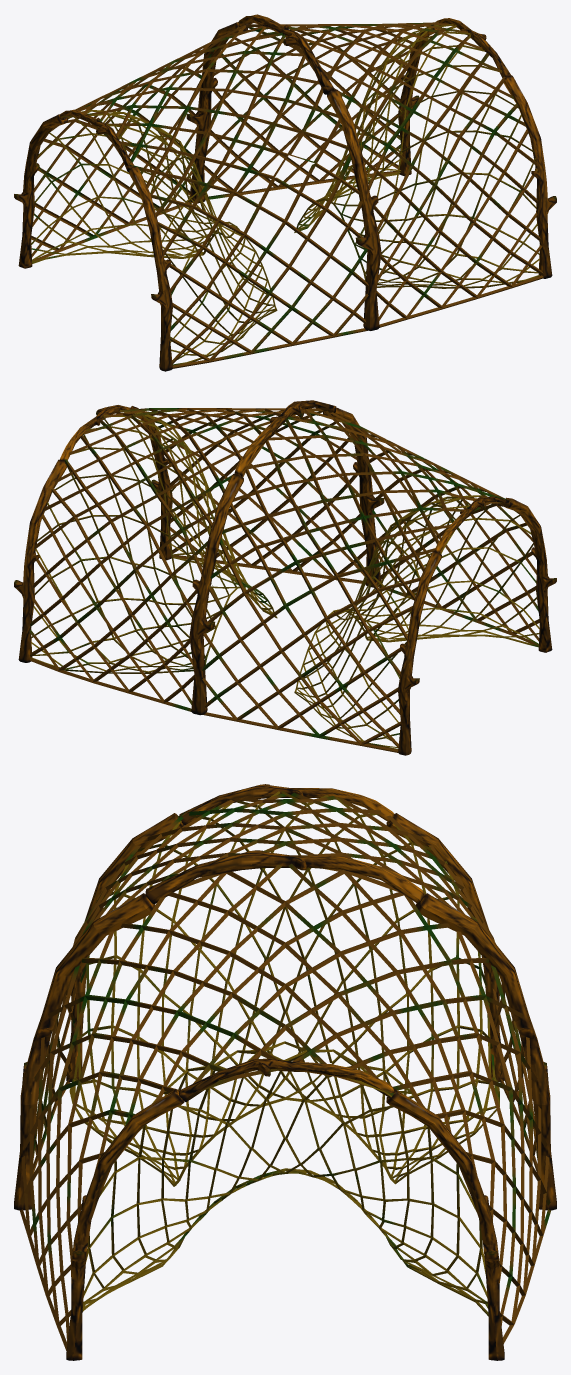
File: UnityWasserFalle.fbx
The picture shows the model from 3 angles, top to bottom: view 1: azimuth 30°, elevation 25°; view 2: azimuth 150°, elevation 25°; view 3: azimuth 270°, elevation 25°; orthographic projection. The views are drawn at different scales.
Parts seen in each view (by area): view 1: Plane.001, Plane.002, Cube.004; view 2: Plane.001, Plane.002, Cube.004; view 3: Plane.001, Cube.004, Plane.002.
Part boxes in pixels (x1,y1,x2,y2): Plane.001: (31, 22, 543, 368); Plane.002: (31, 24, 539, 365); Cube.004: (14, 14, 556, 371); Plane.001: (29, 408, 539, 752); Plane.002: (31, 410, 539, 749); Cube.004: (14, 400, 556, 755); Plane.001: (19, 793, 551, 1350); Cube.004: (14, 784, 556, 1360); Plane.002: (69, 791, 499, 1316).
Bounding box in the file's own units: 347 × 201 × 268.
